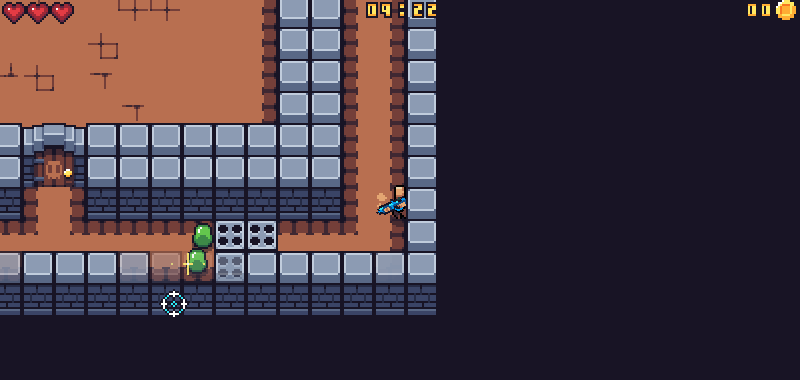door: (19, 119, 90, 187)
enemy_slug: (189, 221, 212, 248), (185, 246, 206, 275)
trap_off: (213, 220, 277, 284)
